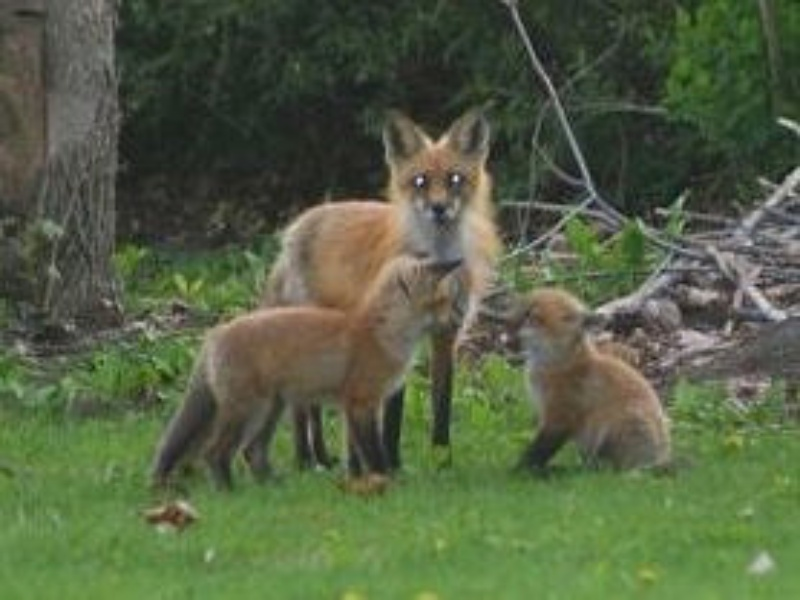fox: (256, 105, 500, 484), (139, 255, 463, 500), (507, 286, 678, 483)
